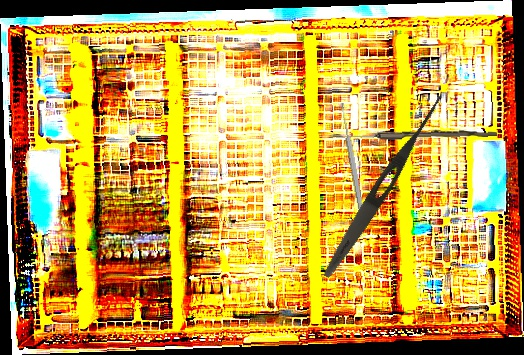Dressing Forceps: (318, 90, 448, 282)
Surgical Spoon: (338, 102, 367, 219), (335, 128, 498, 142)
